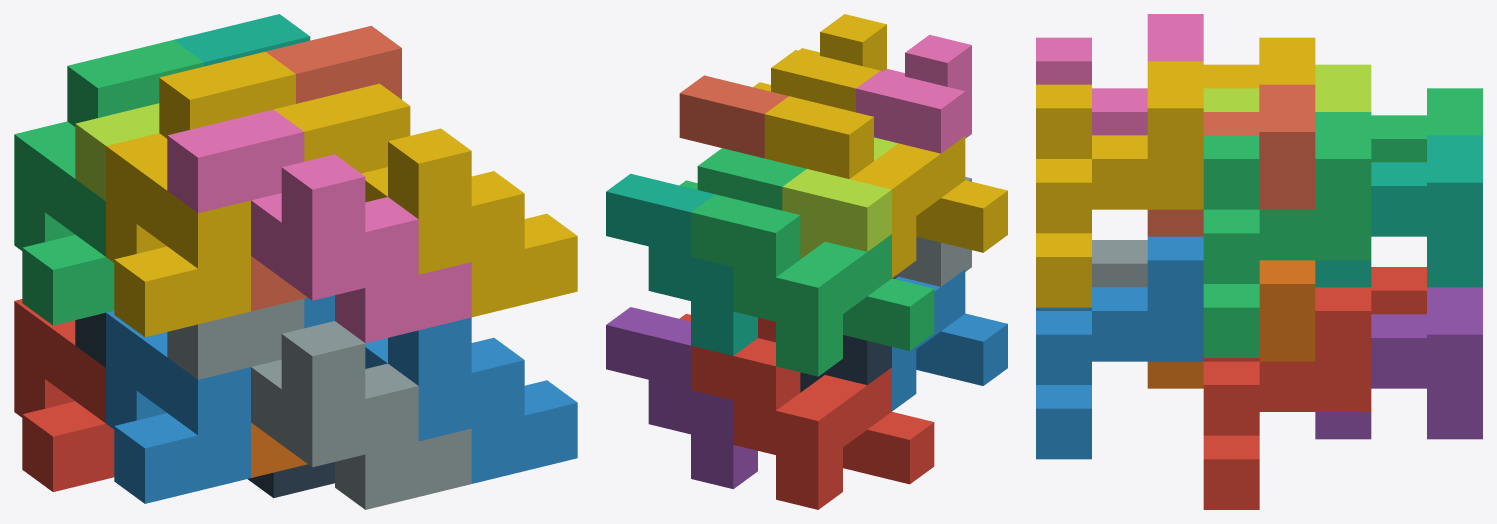
Rendered from tiling.obj.
3 renders of one model, left to right at view 1: azimuth 30°, elevation 25°; view 2: azimuth 150°, elevation 25°; view 3: azimuth 270°, elevation 25°, orthographic. The views are drawn at different scales.
Parts seen in each view (by area): view 1: copy_2_domain_4, copy_2_domain_2, copy_1_domain_4, copy_2_domain_8, copy_1_domain_3, copy_2_domain_6, copy_1_domain_2, copy_1_domain_1, copy_1_domain_8, copy_2_domain_3, copy_1_domain_7, copy_2_domain_1 (+1 smaller); view 2: copy_1_domain_3, copy_1_domain_1, copy_1_domain_4, copy_1_domain_7, copy_1_domain_5, copy_2_domain_4, copy_1_domain_2, copy_2_domain_3, copy_2_domain_8, copy_1_domain_8, copy_2_domain_7, copy_2_domain_1 (+1 smaller); view 3: copy_2_domain_8, copy_2_domain_7, copy_2_domain_6, copy_2_domain_5, copy_1_domain_5, copy_1_domain_7, copy_1_domain_8, copy_2_domain_4, copy_1_domain_6, copy_1_domain_3, copy_1_domain_4, copy_2_domain_3 (+2 smaller).
Boxes of the visible parts, bbox=[...] form: copy_2_domain_4: bbox=[167, 109, 471, 343]; copy_2_domain_2: bbox=[167, 298, 471, 509]; copy_1_domain_4: bbox=[106, 51, 295, 337]; copy_2_domain_8: bbox=[274, 83, 577, 317]; copy_1_domain_3: bbox=[14, 40, 203, 325]; copy_2_domain_6: bbox=[304, 295, 577, 483]; copy_1_domain_2: bbox=[106, 311, 250, 503]; copy_1_domain_1: bbox=[14, 299, 114, 491]; copy_1_domain_8: bbox=[251, 25, 401, 311]; copy_2_domain_3: bbox=[75, 103, 159, 200]; copy_1_domain_7: bbox=[174, 14, 310, 66]; copy_2_domain_1: bbox=[75, 312, 334, 498]; copy_1_domain_3: bbox=[691, 194, 934, 376]; copy_1_domain_1: bbox=[691, 338, 934, 509]; copy_1_domain_4: bbox=[764, 96, 1007, 277]; copy_1_domain_7: bbox=[606, 173, 757, 355]; copy_1_domain_5: bbox=[606, 307, 757, 489]; copy_2_domain_4: bbox=[856, 34, 971, 153]; copy_1_domain_2: bbox=[892, 269, 1007, 411]; copy_2_domain_3: bbox=[782, 137, 897, 259]; copy_2_domain_8: bbox=[753, 14, 886, 112]; copy_1_domain_8: bbox=[679, 75, 788, 158]; copy_2_domain_7: bbox=[679, 148, 806, 210]; copy_2_domain_1: bbox=[800, 276, 897, 392]; copy_2_domain_8: bbox=[1036, 61, 1203, 307]; copy_2_domain_7: bbox=[1203, 112, 1371, 357]; copy_2_domain_6: bbox=[1036, 236, 1203, 459]; copy_2_domain_5: bbox=[1203, 287, 1371, 509]; copy_1_domain_5: bbox=[1315, 287, 1482, 439]; copy_1_domain_7: bbox=[1315, 135, 1482, 287]; copy_1_domain_8: bbox=[1147, 84, 1315, 236]; copy_2_domain_4: bbox=[1036, 14, 1203, 135]; copy_1_domain_6: bbox=[1147, 260, 1315, 388]; copy_1_domain_3: bbox=[1371, 88, 1482, 162]; copy_1_domain_4: bbox=[1203, 37, 1315, 88]; copy_2_domain_3: bbox=[1203, 64, 1371, 111].
Bounding box in the file's own units: 7 × 7 × 8.
